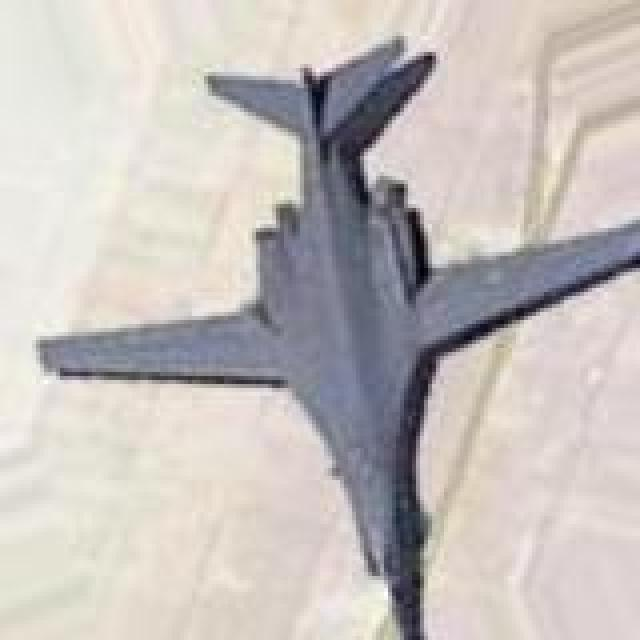B-1_TopDown: (32, 28, 636, 636)
